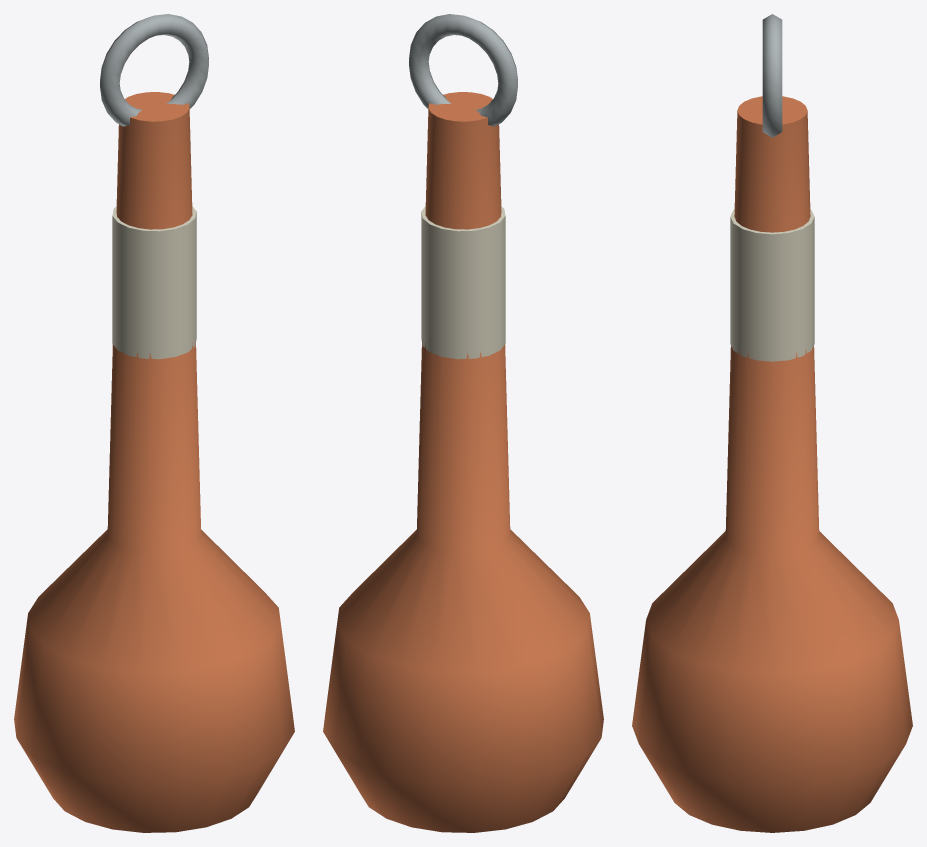
The model's file is flooded-and-coastal-survival-navigation-spar-buoy-767a07ac__20068.glb.
The picture shows the model from 3 angles, left to right: view 1: azimuth 30°, elevation 25°; view 2: azimuth 150°, elevation 25°; view 3: azimuth 270°, elevation 25°; orthographic projection.
Visible parts, largest first — view 1: navigation-spar-buoy; view 2: navigation-spar-buoy; view 3: navigation-spar-buoy.
Part boxes in pixels (<box>): navigation-spar-buoy: <box>14,14,294,832</box>; navigation-spar-buoy: <box>323,14,603,832</box>; navigation-spar-buoy: <box>632,14,912,832</box>.
Bounding box in the file's own units: 0.6001 × 1.81 × 0.6001.
